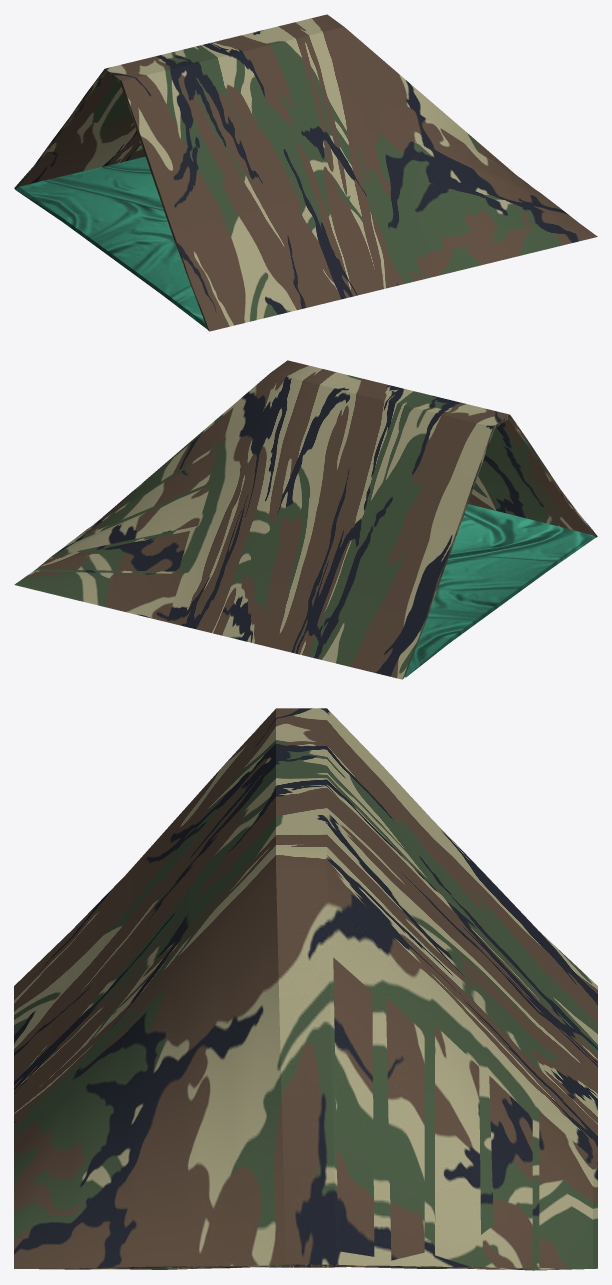
The model's file is 2Tent.FBX.
3 renders of one model, top to bottom at view 1: azimuth 30°, elevation 25°; view 2: azimuth 150°, elevation 25°; view 3: azimuth 270°, elevation 25°, orthographic. The views are drawn at different scales.
Visible parts, largest first — view 1: C-Ext001, Plane001; view 2: C-Ext001, Plane001; view 3: C-Ext001.
Part boxes in pixels (x1,y1,x2,y2): C-Ext001: (14, 14, 597, 331); Plane001: (15, 156, 207, 329); C-Ext001: (14, 360, 597, 679); Plane001: (404, 504, 595, 677); C-Ext001: (14, 708, 597, 1270).
Size of the model in its own units: 197 by 92.23 by 172.
2 materials, 2 textured.
